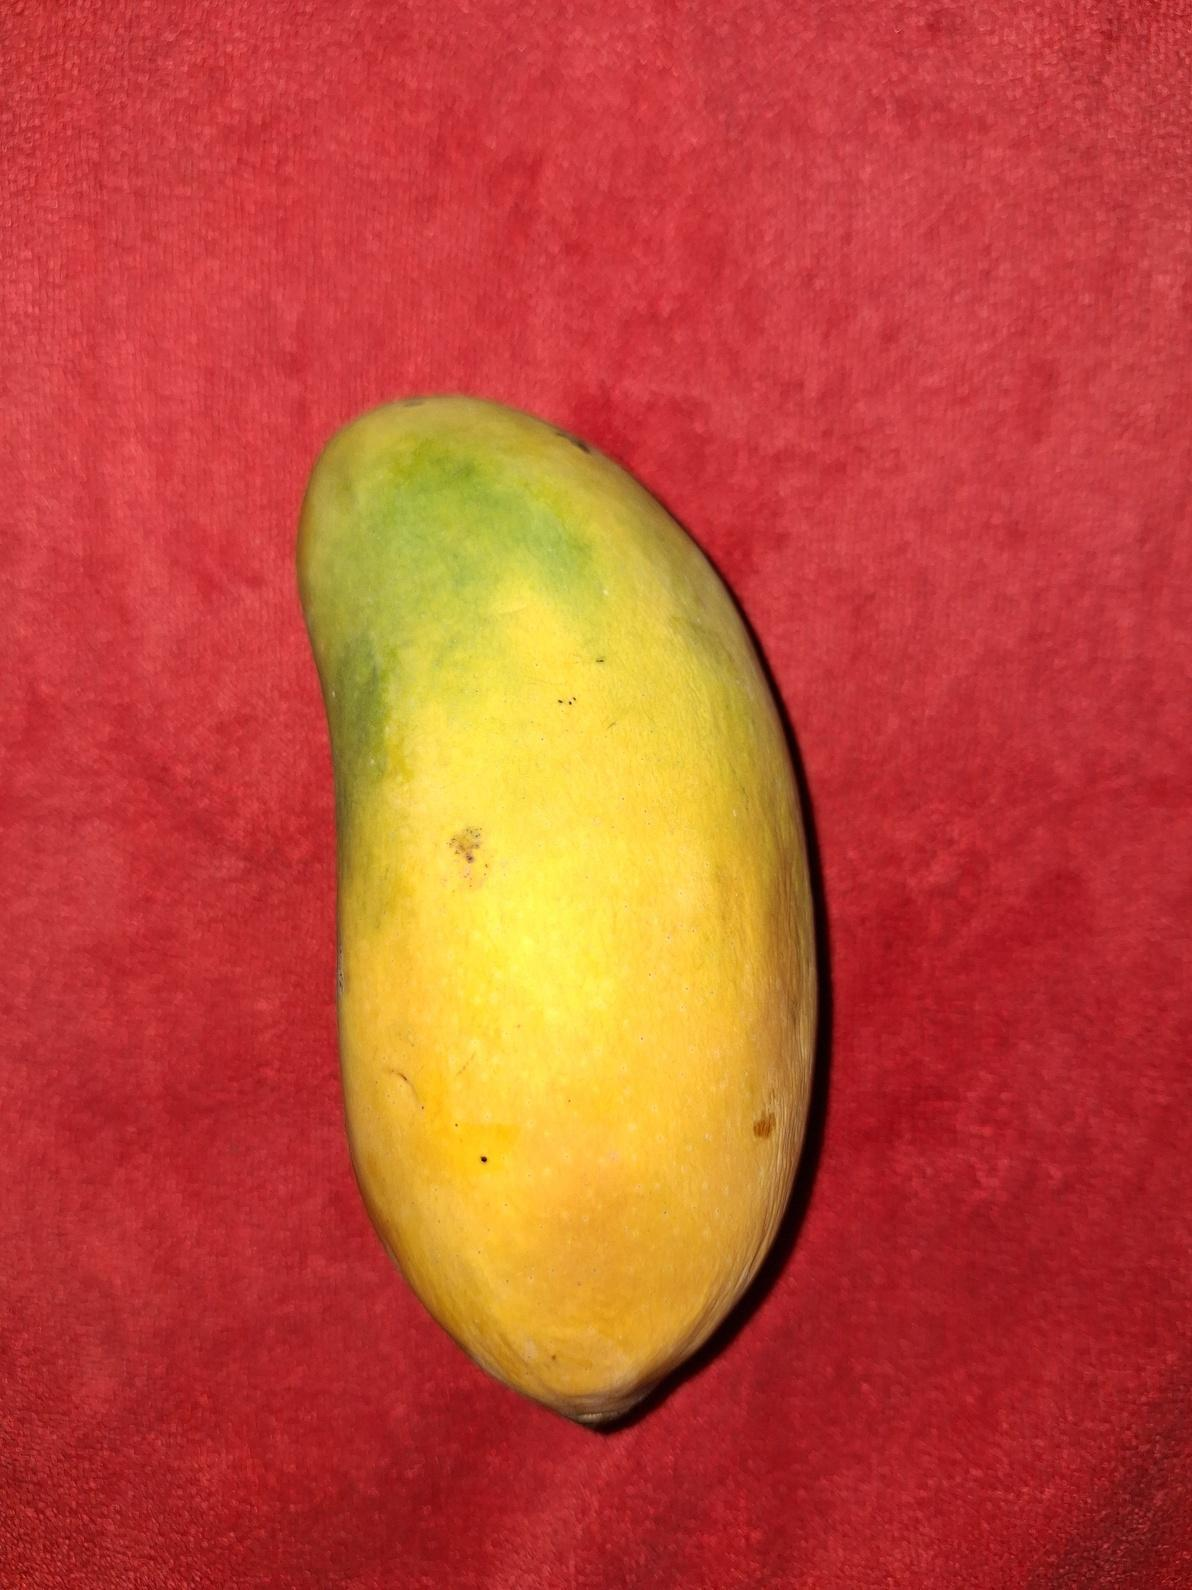mango: (294, 391, 820, 1427)
